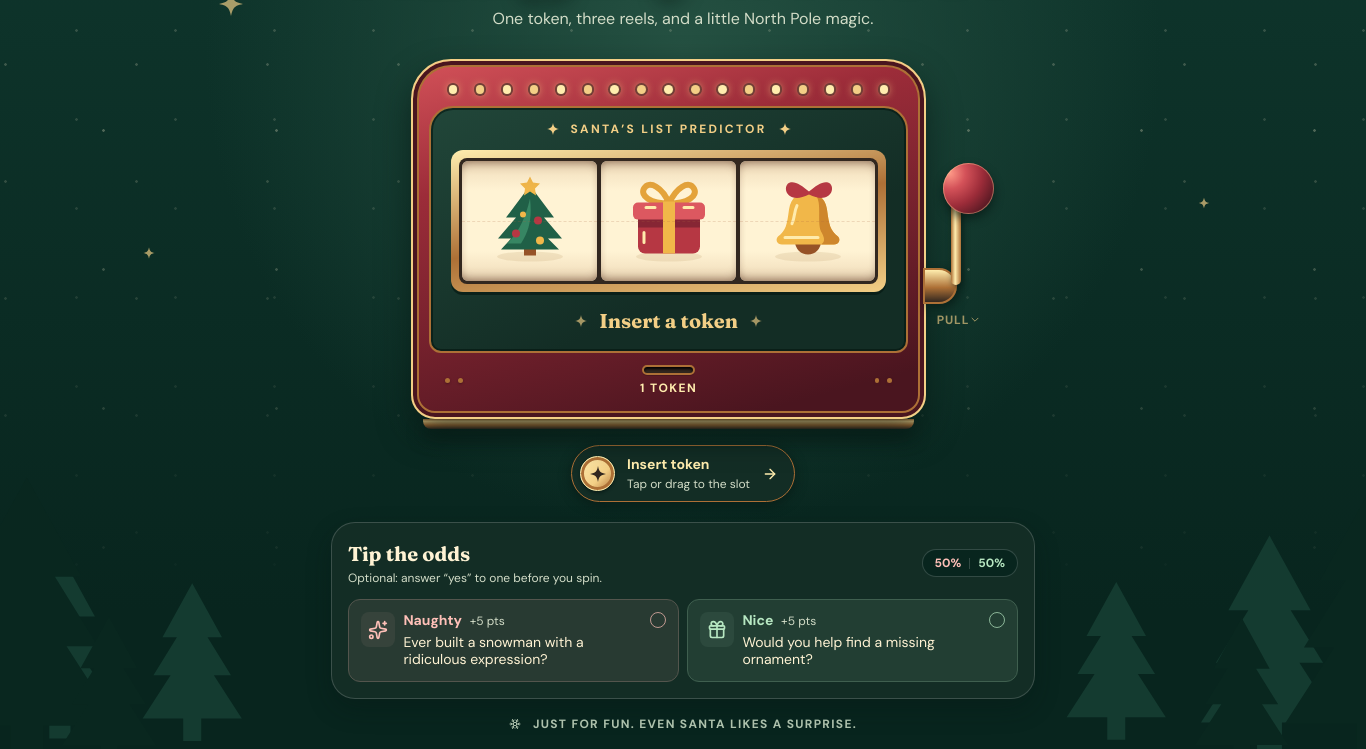
Test case: App › loads one token, spins the three reels, and presents fresh questions and a token
Later steps or results of the test are not shown.
(page scrolled)
Expected: the button with aria-label "Pull lever" is disabled, x1=923 y1=155 x2=995 y2=317
Step 1. Click the button "Nice +5 pts Would you help find a missing ornament?" → point(852, 641), box x1=687 y1=599 x2=1018 y2=682
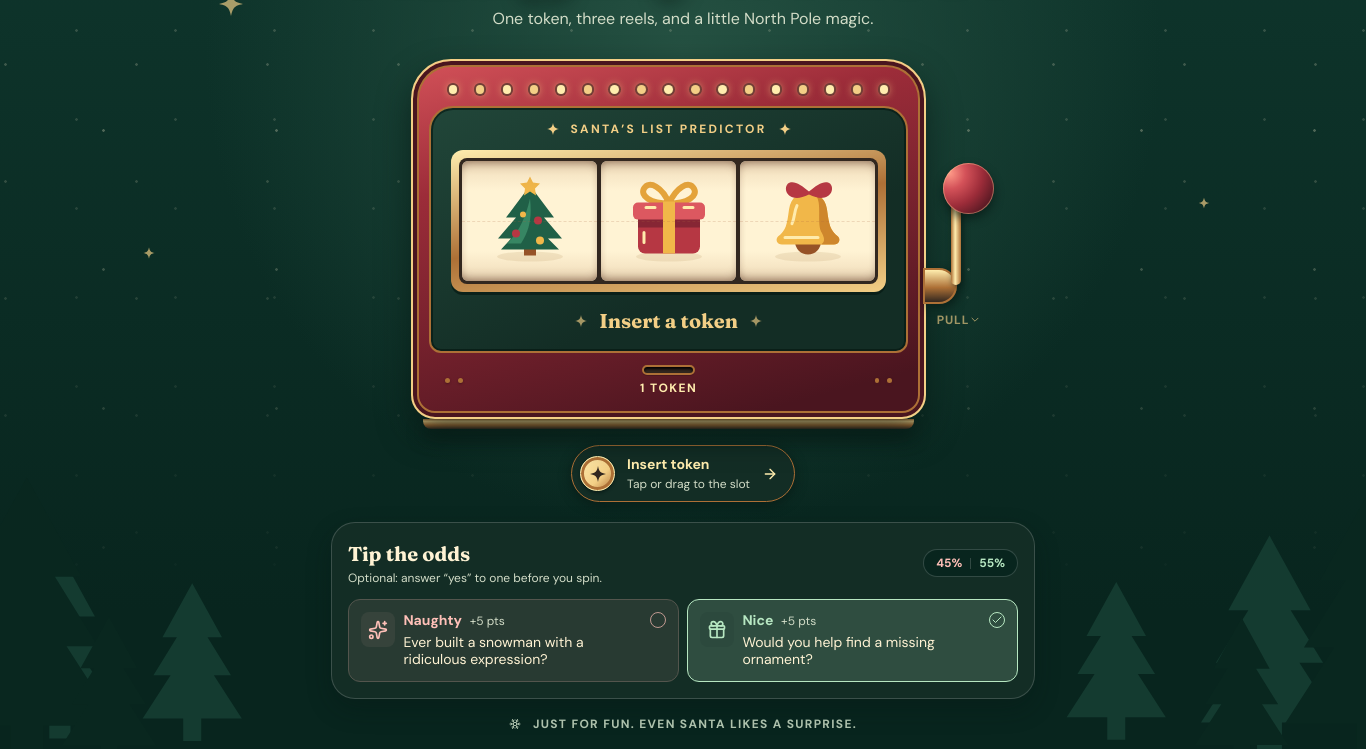
Now the message named "Current odds: 45% Naughty, 55% Nice" is shown, box x1=923 y1=549 x2=1018 y2=577
Step 2. Click the button with aria-label "Insert token into slot" → point(669, 381), box x1=628 y1=361 x2=709 y2=401
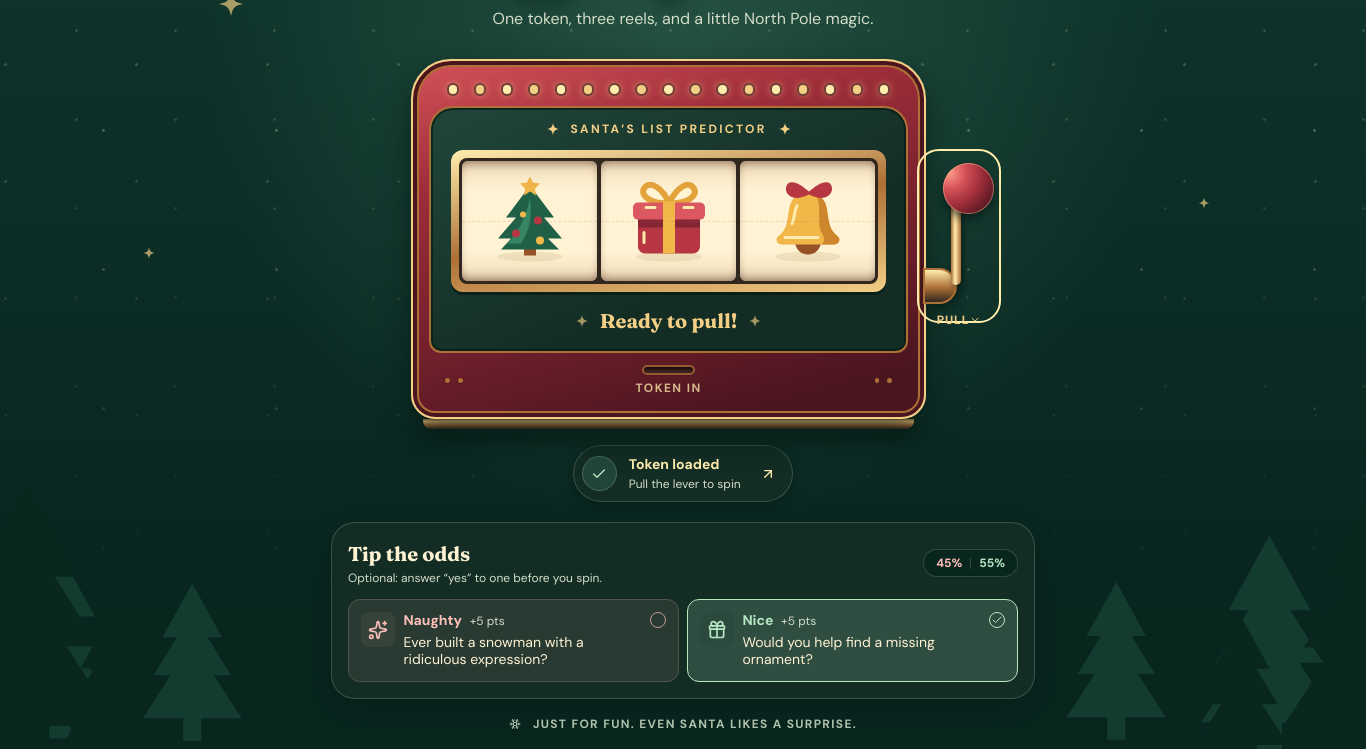
Step 3. Click the button with aria-label "Pull lever" → point(959, 236), box x1=923 y1=155 x2=995 y2=317
Wait 2000 ms
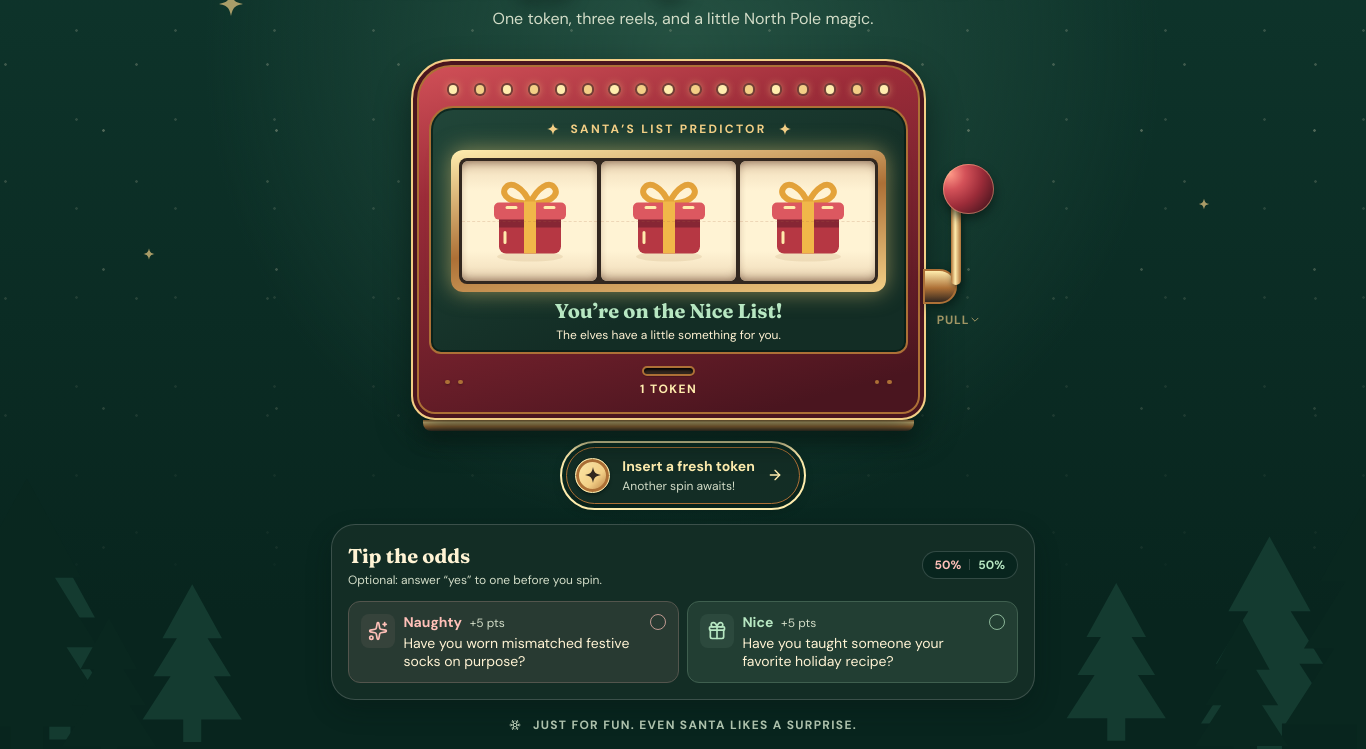
Now the button with aria-label "Pull lever" is disabled, box x1=923 y1=156 x2=995 y2=317
Now the text "You’re on the Nice List!" is shown, box x1=555 y1=300 x2=782 y2=322
Now the message named "Current odds: 50% Naughty, 50% Nice" is shown, box x1=922 y1=551 x2=1018 y2=579
Step 4. Click the button "Insert a fresh token Another spin awaits!" → point(683, 475), box x1=566 y1=447 x2=800 y2=504
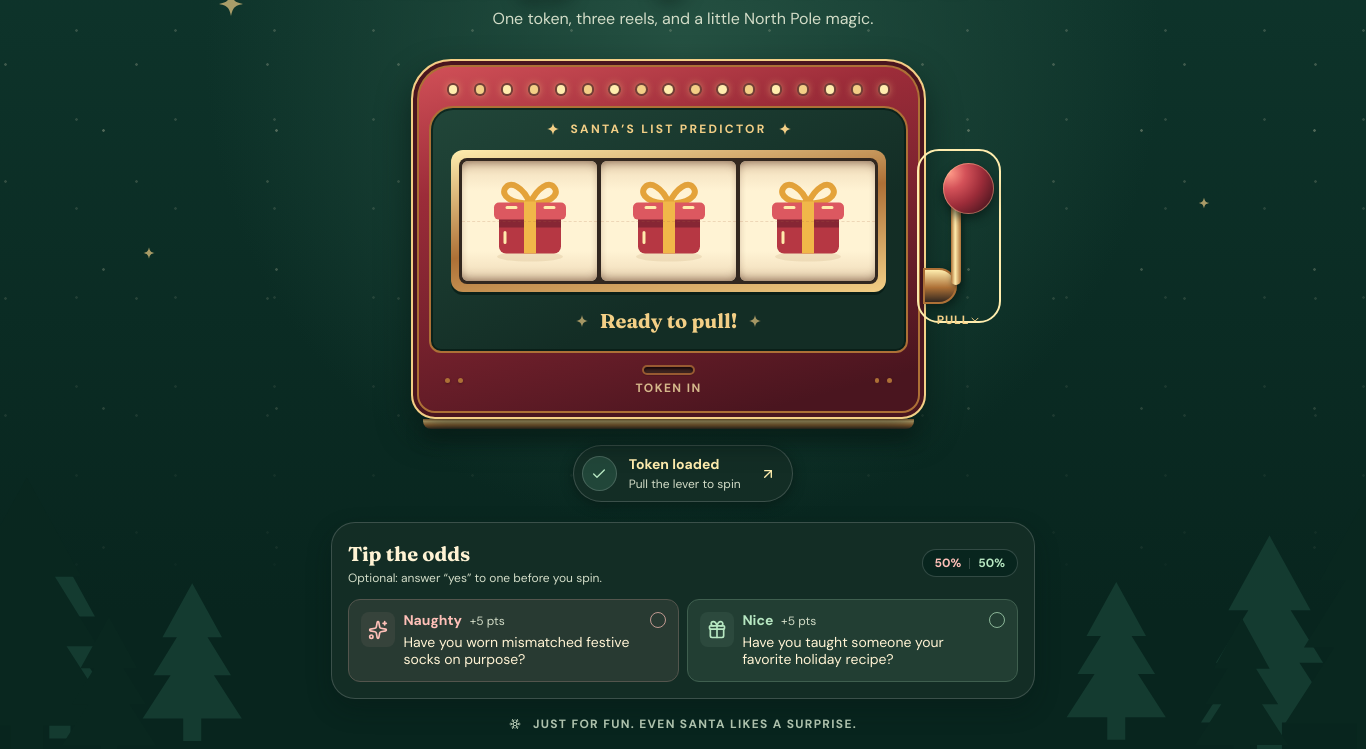
Step 5. Click the button with aria-label "Pull lever" → point(959, 236), box x1=923 y1=155 x2=995 y2=317
Wait 2000 ms
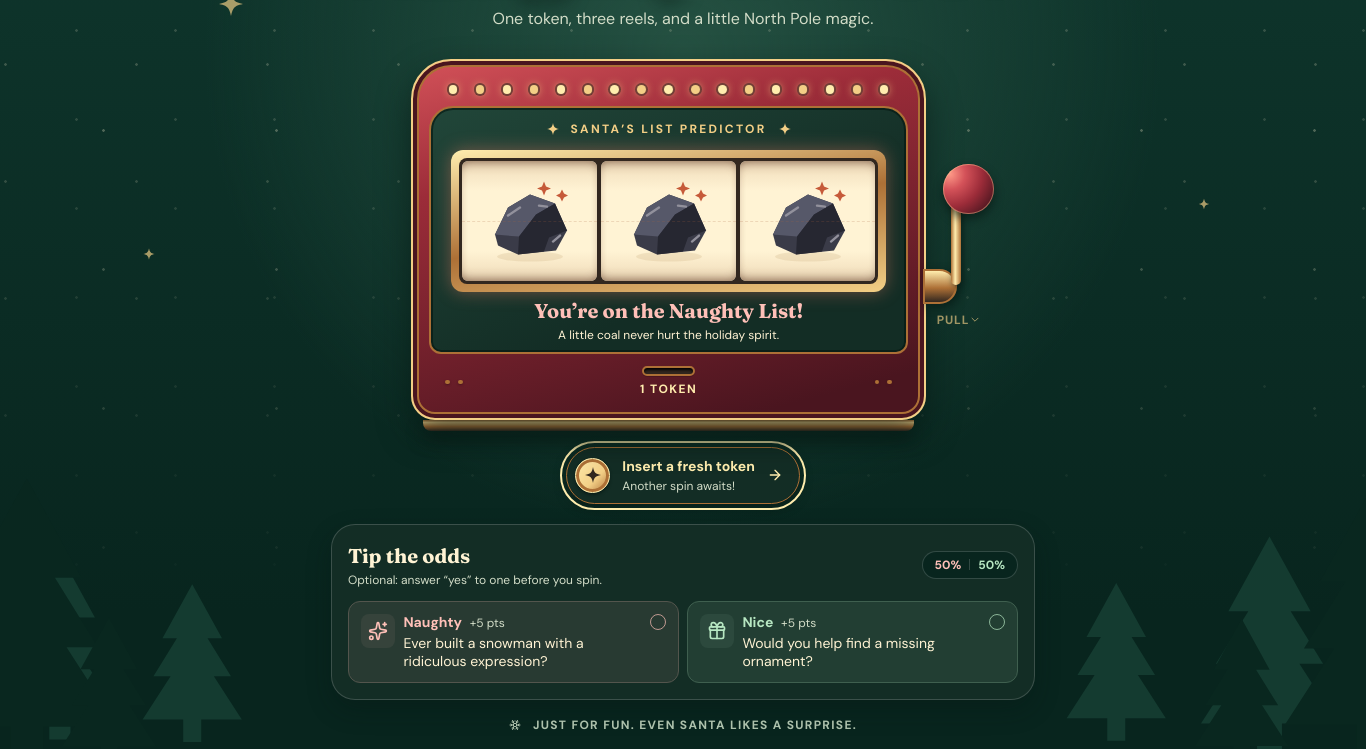
Now the text "You’re on the Naughty List!" is shown, box x1=534 y1=300 x2=803 y2=322
